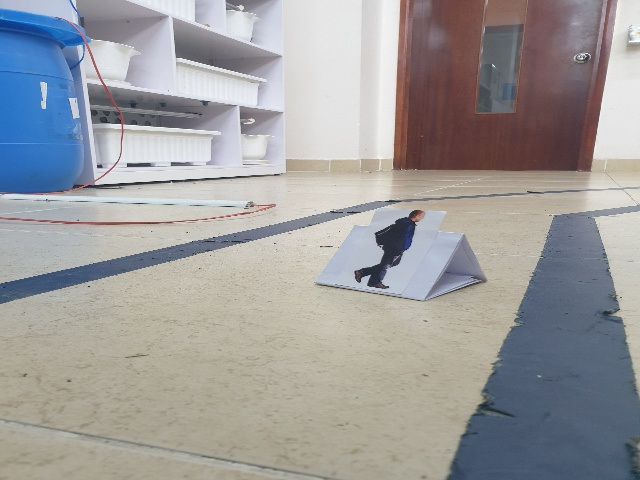Person: (359, 206, 423, 292)
